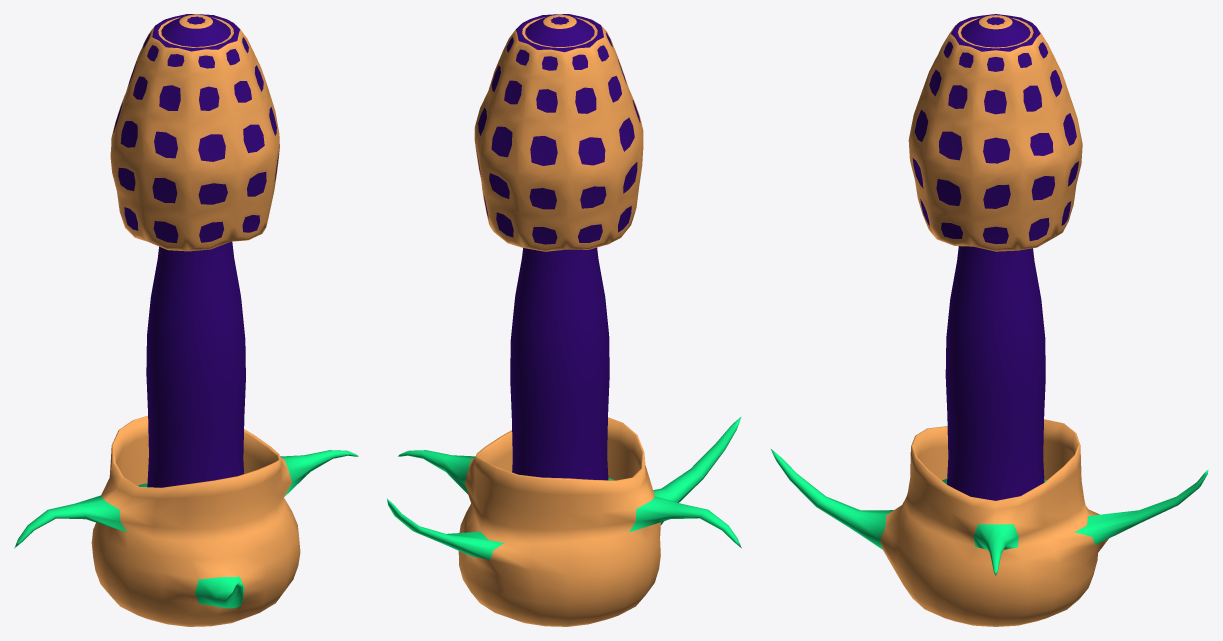
Rendered from pore1.fbx.
The picture shows the model from 3 angles, left to right: view 1: azimuth 30°, elevation 25°; view 2: azimuth 150°, elevation 25°; view 3: azimuth 270°, elevation 25°; orthographic projection.
Parts seen in each view (by area): view 1: spore1; view 2: spore1; view 3: spore1.
Boxes of the visible parts, x1,y1,x2,y2 form: spore1: [14, 14, 358, 626]; spore1: [387, 14, 741, 626]; spore1: [771, 14, 1208, 626].
Bounding box in the file's own units: 158 × 255 × 174.
